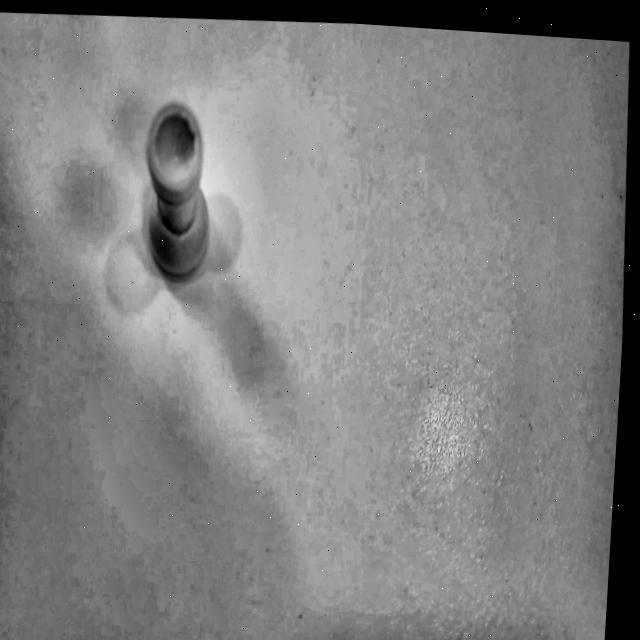white-rook: (107, 101, 239, 307)
